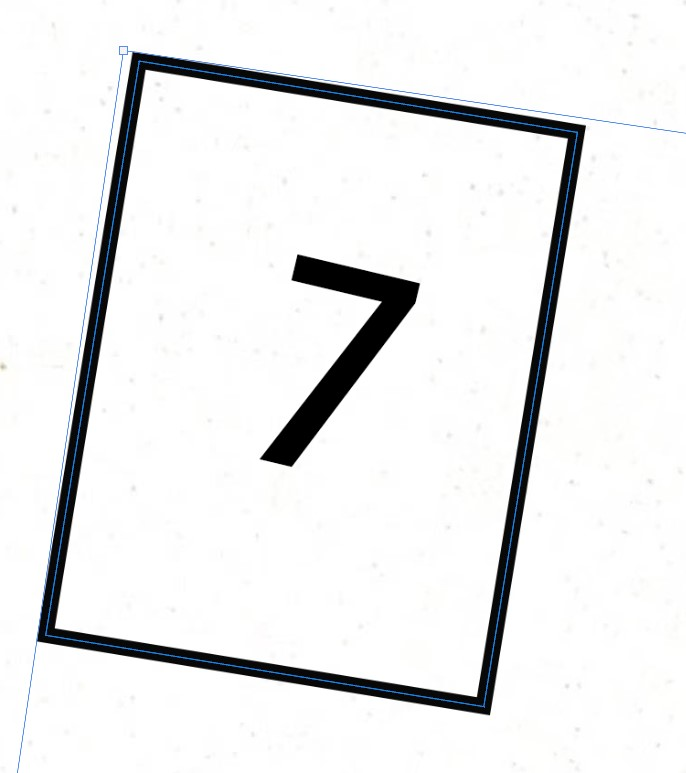seven: (217, 208, 453, 538)
